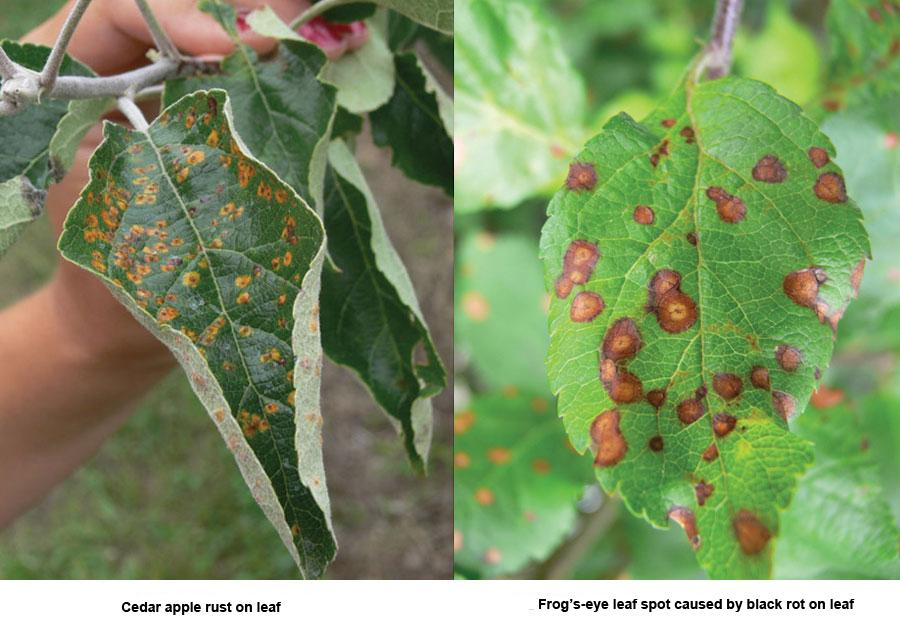Apple rust leaf: (529, 69, 879, 573), (63, 76, 354, 580)
